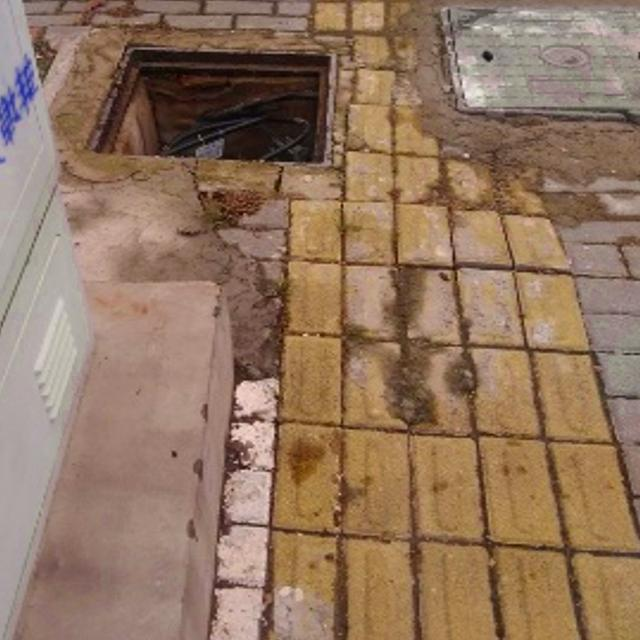good: (444, 2, 640, 121)
lose: (84, 43, 346, 164)
